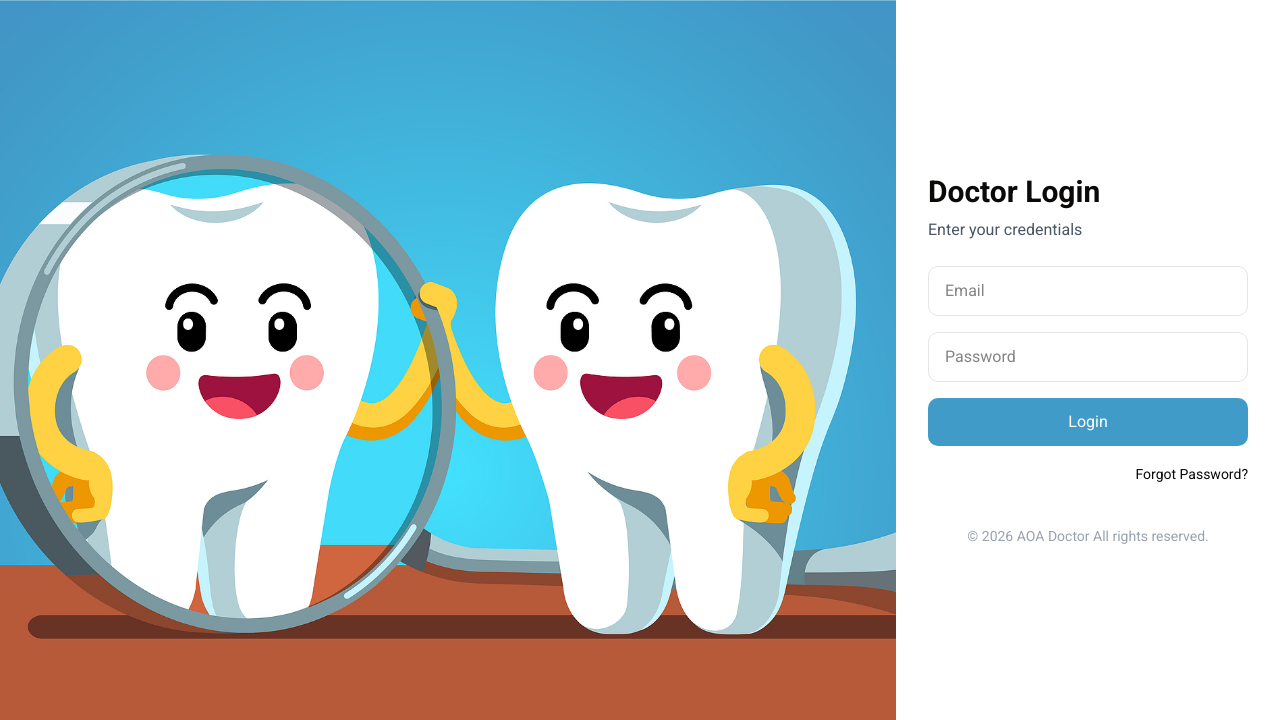
Test: Login Component › shows error for invalid credentials
Type "wrong@test.com" into the field with placeholder "Email". click: (1088, 291)
box: [928,266,1248,316]
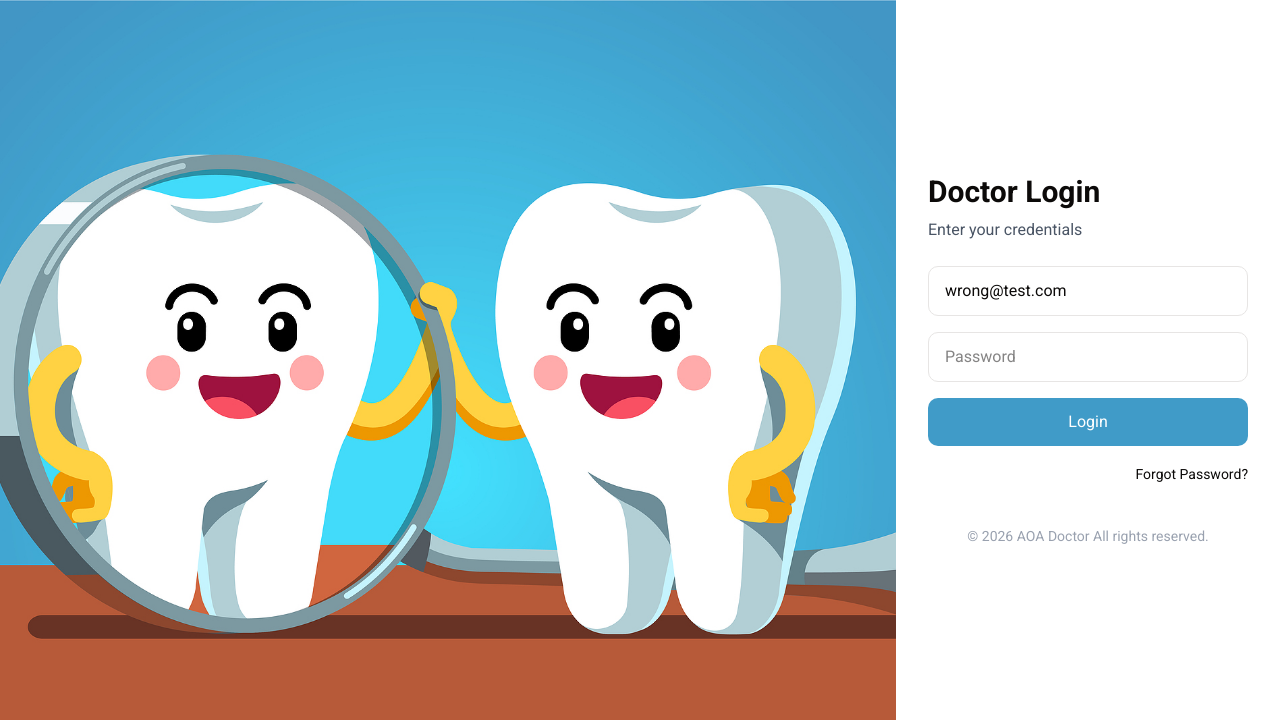
Type "wrongpassword" into the password field with placeholder "Password". click: (1088, 357)
box: [928,332,1248,382]
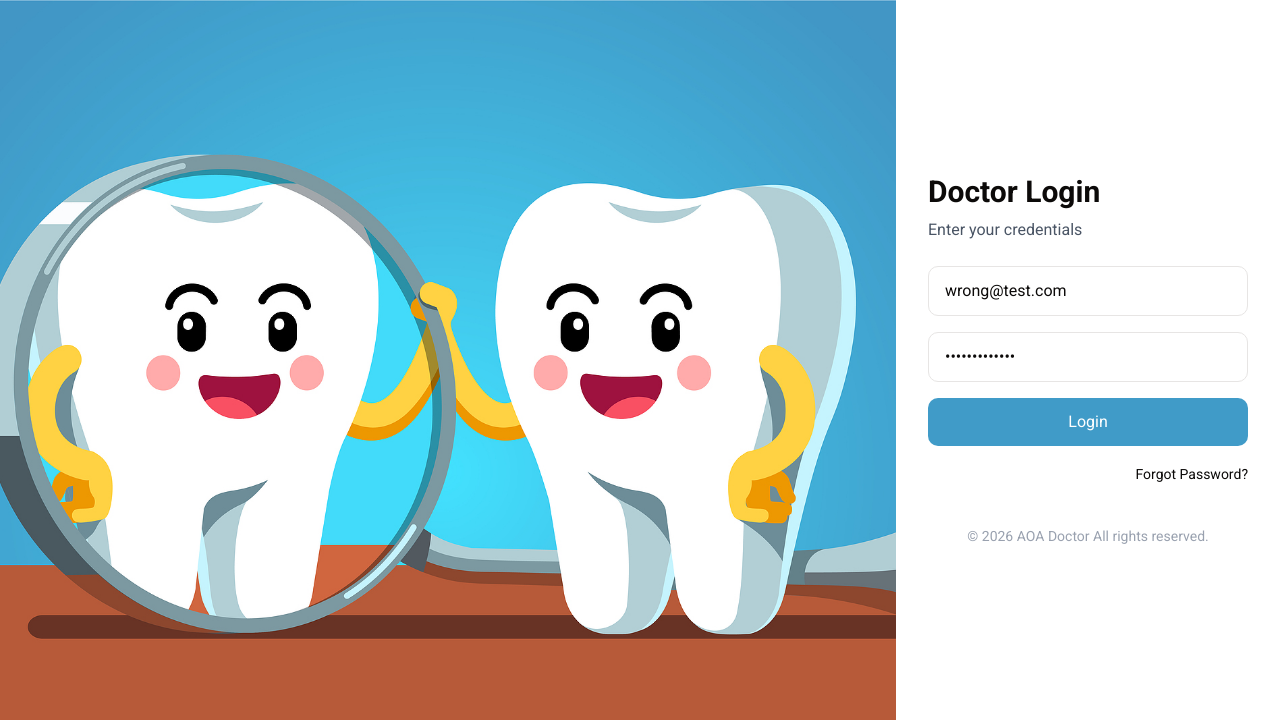
Click the button "Login". click: click(1088, 422)
box: [928,398,1248,446]
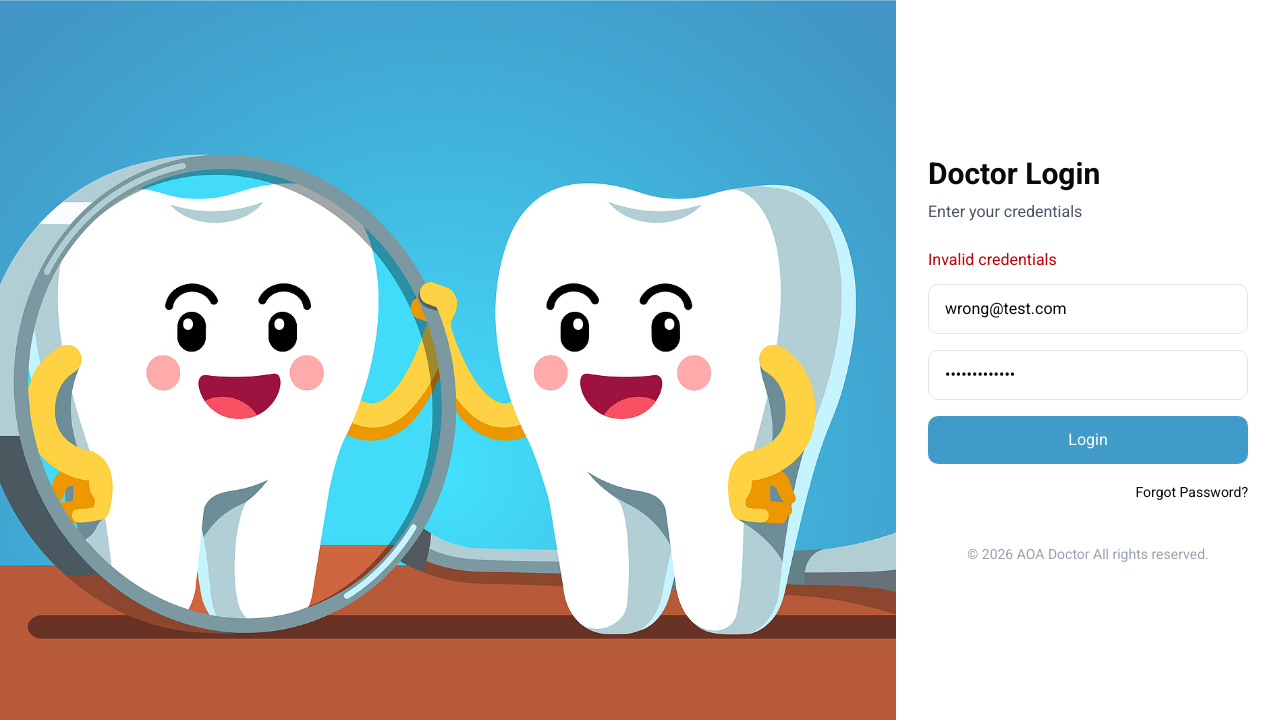
Check: the text "Invalid credentials" is shown, box [928,250,1057,269]
